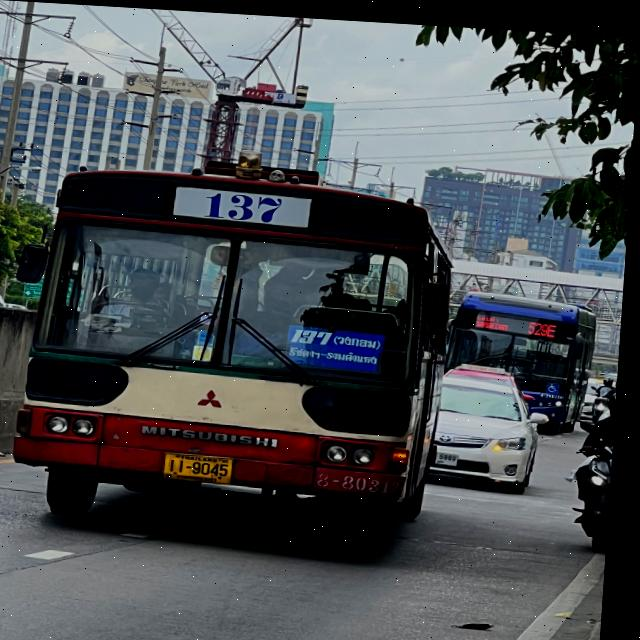BMTA-bus: (14, 164, 460, 553)
Bus-Line-Number: (196, 183, 293, 229), (525, 311, 565, 335)
Destination-Sign-Normal: (288, 319, 391, 370), (475, 307, 518, 325)
TSB-Bus: (448, 285, 601, 432)
